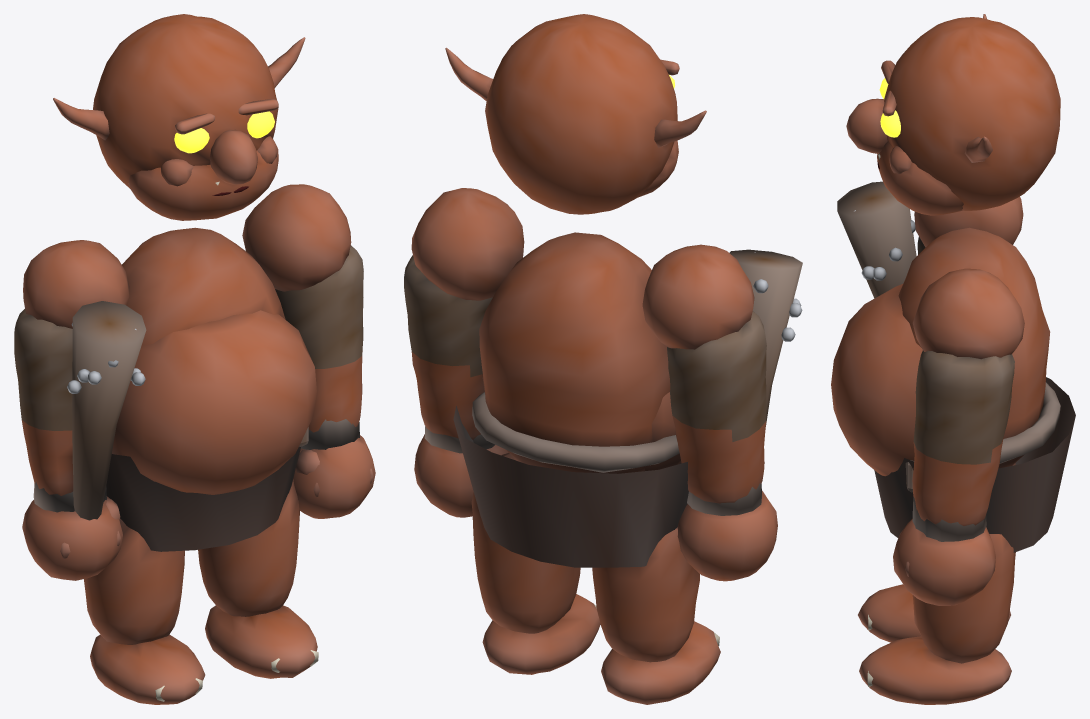
3 views of the same model, side by side, from view 1: azimuth 30°, elevation 25°; view 2: azimuth 150°, elevation 25°; view 3: azimuth 270°, elevation 25° (orthographic). The views are drawn at different scales.
Parts seen in each view (by area): view 1: torso, head, armR, armL, legR, legL, weapon; view 2: torso, head, armR, legR, armL, legL, weapon; view 3: torso, head, armL, legL, weapon, legR.
Boxes of the visible parts, <box> form: torso: <box>23,184,351,551</box>; head: <box>53,14,305,220</box>; armR: <box>14,309,122,580</box>; armL: <box>275,245,375,518</box>; legR: <box>84,518,205,704</box>; legL: <box>198,479,318,678</box>; weapon: <box>67,301,146,520</box>; torso: <box>411,188,754,567</box>; head: <box>445,14,706,214</box>; armR: <box>667,311,777,581</box>; legR: <box>592,527,720,704</box>; armL: <box>404,255,508,517</box>; legL: <box>471,453,600,674</box>; weapon: <box>729,249,802,424</box>; torso: <box>831,196,1075,552</box>; head: <box>846,14,1060,215</box>; armL: <box>893,350,1014,605</box>; legL: <box>859,534,1015,704</box>; weapon: <box>837,181,916,298</box>; legR: <box>858,463,1015,642</box>.
Bounding box in the file's own units: 0.5195 × 0.9487 × 0.3264.
